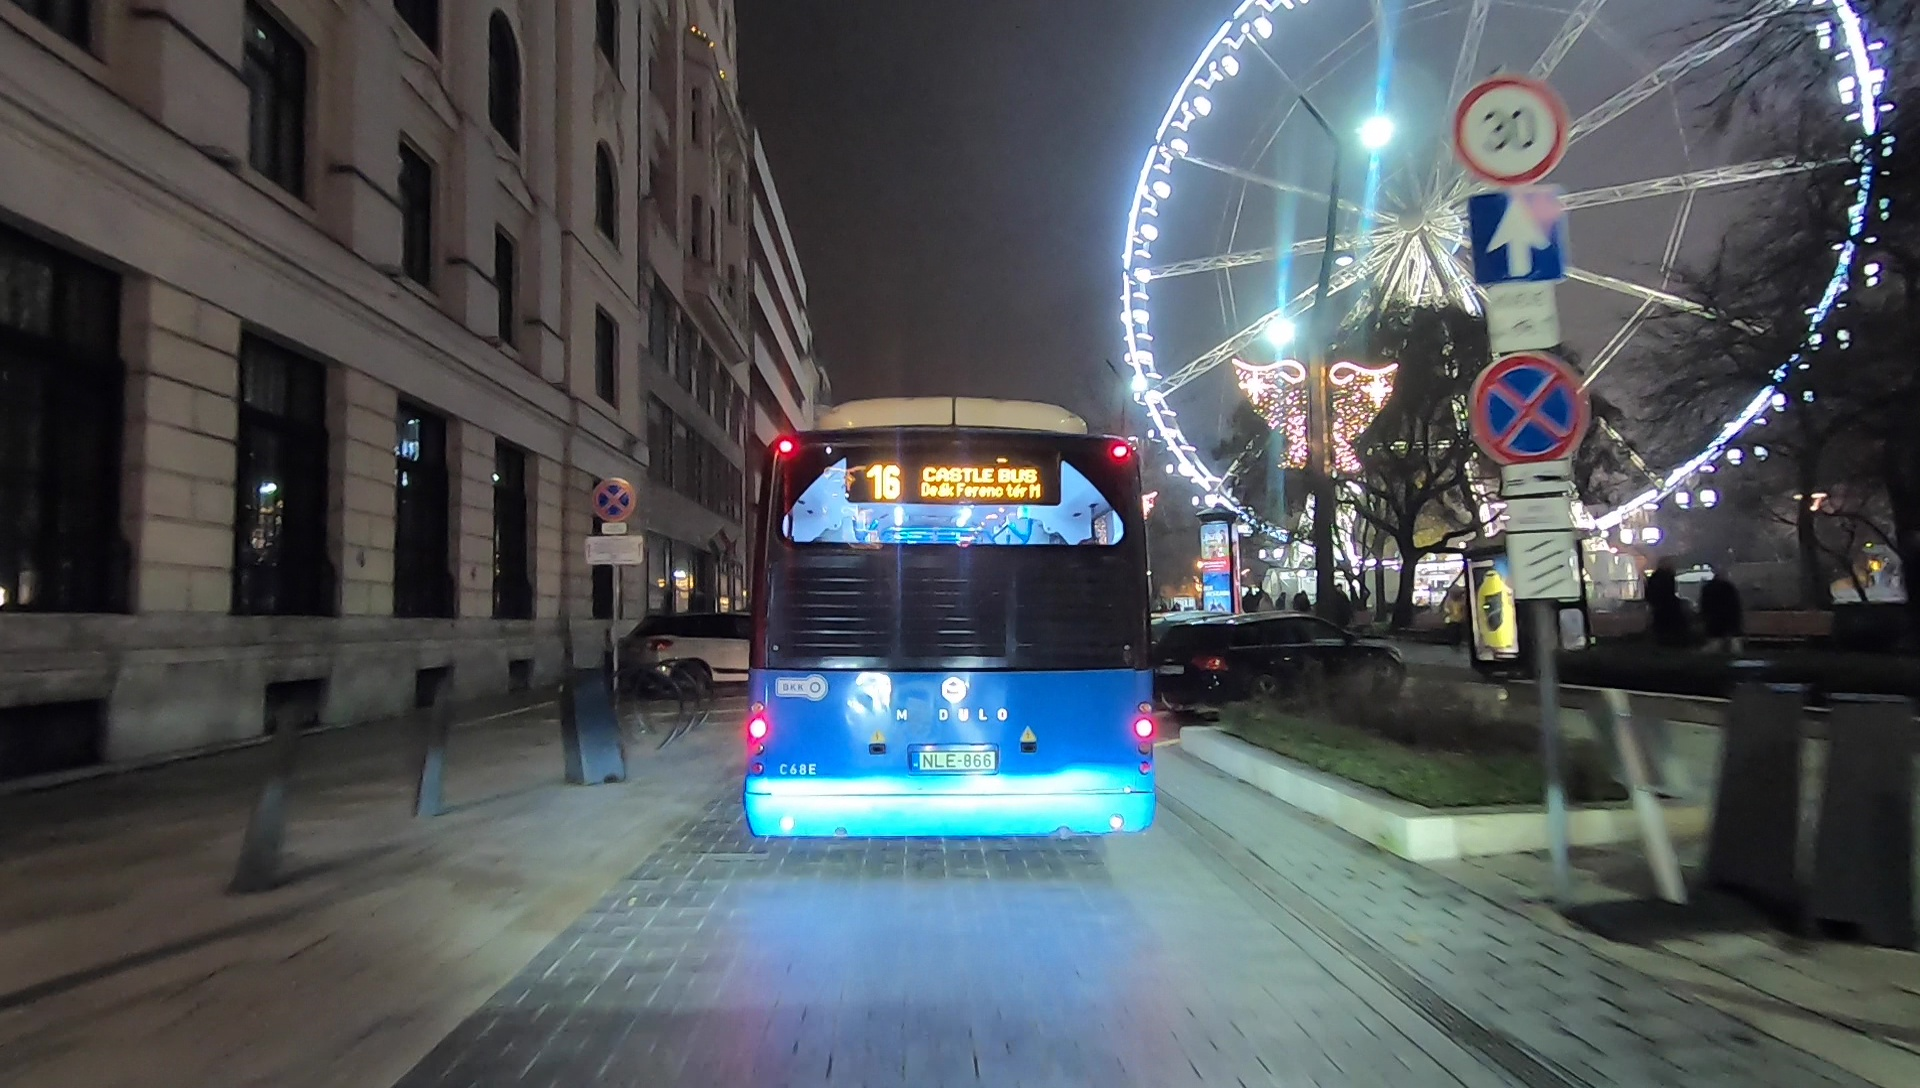person: (1695, 567, 1743, 676), (1645, 560, 1682, 661)
